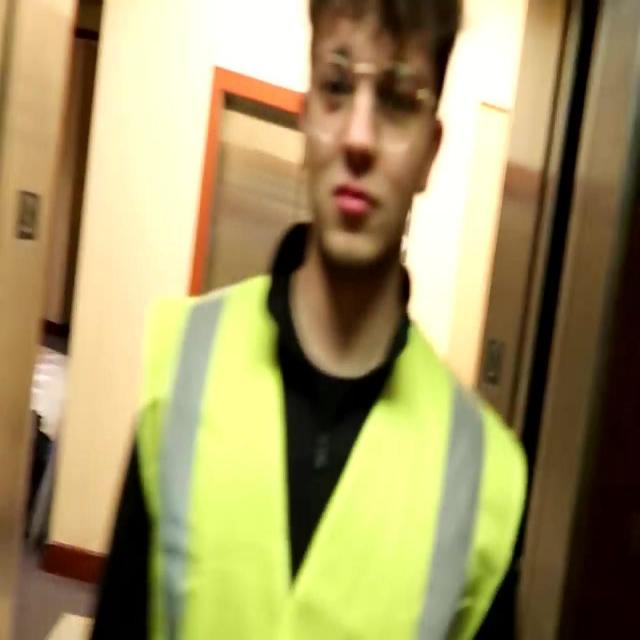Reflective-Jacket: (122, 284, 536, 626)
